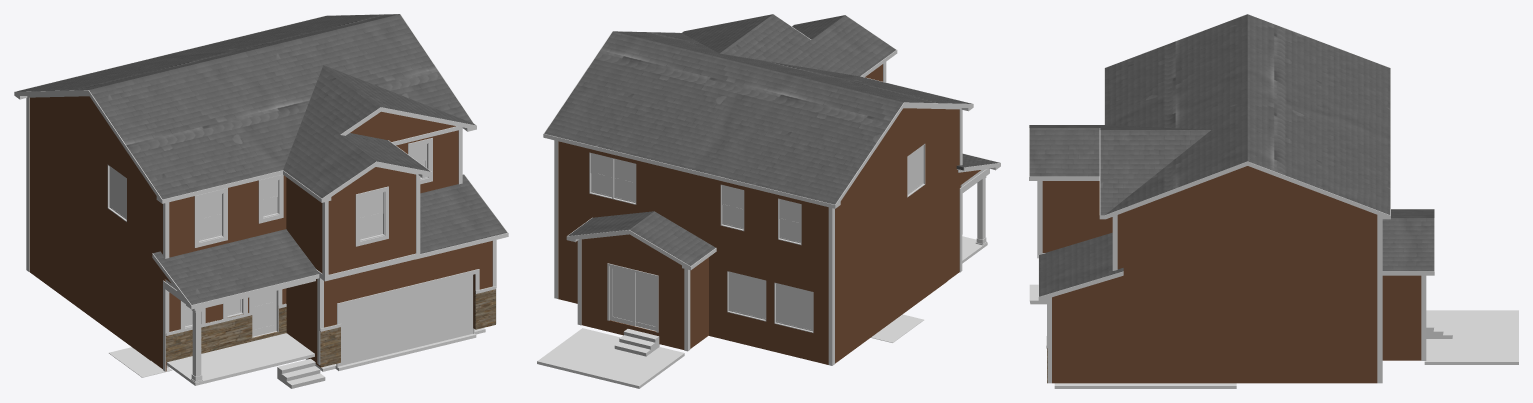
File: 235-1791-dm-farmhouse.glb
3 views of the same model, side by side, from view 1: azimuth 30°, elevation 25°; view 2: azimuth 150°, elevation 25°; view 3: azimuth 270°, elevation 25° (orthographic). The views are drawn at different scales.
Visible parts, largest first — view 1: Basic Roof Wood Rafter 4" - Asphalt Shingle - Insulated_2463, Basic Wall BSB Exterior - Stud_3.5" - Sheathing_0.5" - _47e7, Basic Wall BSB Exterior - Stud_3.5" - Sheathing_0.5" - _ea36, BSB Exterior - Overhead Garage Door OGD - 16070 - Flush_85ee, Basic Roof Wood Rafter 4" - Asphalt Shingle - Insulated_b0a5, Basic Wall BSB Exterior - Stud_3.5" - Sheathing_0.5" - _d446, Basic Roof Wood Rafter 4" - Asphalt Shingle - Insulated_d248, Basic Wall BSB Exterior - Stud_3.5" - Sheathing_0.5" - _87de, Basic Roof Wood Rafter 4" - Asphalt Shingle - Insulated_d5ae, Basic Roof Wood Rafter 4" - Asphalt Shingle - Insulated_28b3, Basic Wall BSB Exterior - Stud_3.5" - Sheathing_0.5" - _9e22, Floor BSB Concrete Slab - 4" - Slope Option [4870198] (+30 smaller); view 2: Basic Roof Wood Rafter 4" - Asphalt Shingle - Insulated_2463, Basic Wall BSB Exterior - Stud_3.5" - Sheathing_0.5" - _07f2, Basic Wall BSB Exterior - Stud_3.5" - Sheathing_0.5" - _47e7, Basic Wall BSB Exterior - Stud_3.5" - Sheathing_0.5" - _ea36, Basic Wall BSB Exterior - Stud_3.5" - Sheathing_0.5" - _2d23, Basic Wall BSB Exterior - Stud_3.5" - Sheathing_0.5" - _a9b3, Floor BSB Concrete Slab - 4" - Slope Option [4913895], Basic Roof Wood Rafter 4" - Asphalt Shingle - Insulated_d248, Trim - Corner Boards1 Trim - Corner Boards [5062225], Basic Roof Wood Rafter 4" - Asphalt Shingle - Insulated_d5ae, Basic Roof Wood Rafter 4" - Asphalt Shingle - Insulated_96e2, BSB Exterior - SGD XO - 1-Lite 6068 [4874971] (+18 smaller); view 3: Basic Roof Wood Rafter 4" - Asphalt Shingle - Insulated_2463, Basic Wall BSB Exterior - Stud_3.5" - Sheathing_0.5" - _c07a, Basic Wall BSB Exterior - Stud_3.5" - Sheathing_0.5" - _a325, Basic Wall BSB Exterior - Stud_3.5" - Sheathing_0.5" - _20d2, Basic Wall BSB Exterior - Stud_3.5" - Sheathing_0.5" - _108d, Basic Wall BSB Exterior - Stud_1.5" - Sheathing_0.5" - _3b97, Basic Roof Wood Rafter 4" - Asphalt Shingle - Insulated_d248, Floor BSB Concrete Slab - 4" - Slope Option [4913895], Basic Wall BSB Exterior - Stud_3.5" - Sheathing_0.5" - _6a5f, Basic Roof Wood Rafter 4" - Asphalt Shingle - Insulated_d5ae, Basic Wall BSB Exterior - Stud_3.5" - Sheathing_0.5" - _6b2a, Basic Roof Wood Rafter 4" - Asphalt Shingle - Insulated_96e2 (+8 smaller).
Boxes of the visible parts, box(x1,y1,x2,y2) form: Basic Roof Wood Rafter 4" - Asphalt Shingle - Insulated_2463: box(16, 14, 473, 199); Basic Wall BSB Exterior - Stud_3.5" - Sheathing_0.5" - _47e7: box(29, 180, 150, 360); Basic Wall BSB Exterior - Stud_3.5" - Sheathing_0.5" - _ea36: box(29, 98, 150, 267); BSB Exterior - Overhead Garage Door OGD - 16070 - Flush_85ee: box(336, 275, 474, 366); Basic Roof Wood Rafter 4" - Asphalt Shingle - Insulated_b0a5: box(153, 229, 318, 304); Basic Wall BSB Exterior - Stud_3.5" - Sheathing_0.5" - _d446: box(328, 167, 415, 274); Basic Roof Wood Rafter 4" - Asphalt Shingle - Insulated_d248: box(286, 65, 475, 161); Basic Wall BSB Exterior - Stud_3.5" - Sheathing_0.5" - _87de: box(318, 241, 492, 366); Basic Roof Wood Rafter 4" - Asphalt Shingle - Insulated_d5ae: box(283, 130, 430, 198); Basic Roof Wood Rafter 4" - Asphalt Shingle - Insulated_28b3: box(420, 174, 507, 253); Basic Wall BSB Exterior - Stud_3.5" - Sheathing_0.5" - _9e22: box(169, 175, 286, 257); Floor BSB Concrete Slab - 4" - Slope Option [4870198]: box(166, 333, 314, 385); Basic Roof Wood Rafter 4" - Asphalt Shingle - Insulated_2463: box(544, 31, 971, 204); Basic Wall BSB Exterior - Stud_3.5" - Sheathing_0.5" - _07f2: box(558, 141, 828, 278); Basic Wall BSB Exterior - Stud_3.5" - Sheathing_0.5" - _47e7: box(835, 195, 947, 363); Basic Wall BSB Exterior - Stud_3.5" - Sheathing_0.5" - _ea36: box(835, 118, 947, 276); Basic Wall BSB Exterior - Stud_3.5" - Sheathing_0.5" - _2d23: box(709, 251, 828, 364); Basic Wall BSB Exterior - Stud_3.5" - Sheathing_0.5" - _a9b3: box(581, 239, 684, 349); Floor BSB Concrete Slab - 4" - Slope Option [4913895]: box(537, 328, 684, 388); Basic Roof Wood Rafter 4" - Asphalt Shingle - Insulated_d248: box(682, 14, 848, 74); Trim - Corner Boards1 Trim - Corner Boards [5062225]: box(554, 62, 962, 365); Basic Roof Wood Rafter 4" - Asphalt Shingle - Insulated_d5ae: box(792, 15, 895, 76); Basic Roof Wood Rafter 4" - Asphalt Shingle - Insulated_96e2: box(568, 211, 715, 265); BSB Exterior - SGD XO - 1-Lite 6068 [4874971]: box(607, 263, 658, 332); Basic Roof Wood Rafter 4" - Asphalt Shingle - Insulated_2463: box(1105, 14, 1390, 214); Basic Wall BSB Exterior - Stud_3.5" - Sheathing_0.5" - _c07a: box(1147, 214, 1377, 293); Basic Wall BSB Exterior - Stud_3.5" - Sheathing_0.5" - _a325: box(1239, 293, 1377, 383); Basic Wall BSB Exterior - Stud_3.5" - Sheathing_0.5" - _20d2: box(1052, 293, 1147, 383); Basic Wall BSB Exterior - Stud_3.5" - Sheathing_0.5" - _108d: box(1147, 293, 1239, 383); Basic Wall BSB Exterior - Stud_1.5" - Sheathing_0.5" - _3b97: box(1120, 166, 1375, 214); Basic Roof Wood Rafter 4" - Asphalt Shingle - Insulated_d248: box(1100, 125, 1210, 215); Floor BSB Concrete Slab - 4" - Slope Option [4913895]: box(1424, 310, 1518, 364); Basic Wall BSB Exterior - Stud_3.5" - Sheathing_0.5" - _6a5f: box(1042, 181, 1112, 252); Basic Roof Wood Rafter 4" - Asphalt Shingle - Insulated_d5ae: box(1029, 125, 1113, 176); Basic Wall BSB Exterior - Stud_3.5" - Sheathing_0.5" - _6b2a: box(1382, 275, 1421, 360); Basic Roof Wood Rafter 4" - Asphalt Shingle - Insulated_96e2: box(1382, 209, 1434, 271).
Size of the model in its own units: 11.32 by 9.15 by 15.87.
3 materials, 2 textured.
